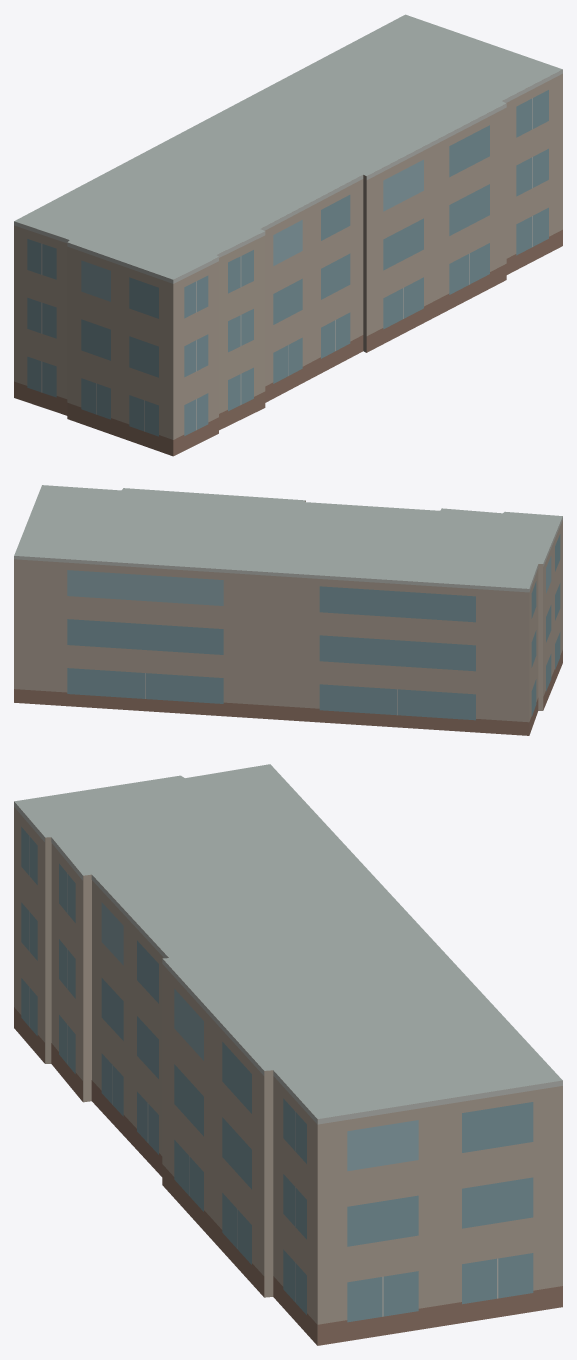
File: survey-upis-32848334.glb
3 views of the same model, one above another, from view 1: azimuth 30°, elevation 25°; view 2: azimuth 150°, elevation 25°; view 3: azimuth 270°, elevation 25° (orthographic). The views are drawn at different scales.
Parts seen in each view (by area): view 1: survey-upis-32848334.tmp; view 2: survey-upis-32848334.tmp; view 3: survey-upis-32848334.tmp.
Part boxes in pixels (x1,y1,x2,y2): survey-upis-32848334.tmp: (14, 14, 562, 456); survey-upis-32848334.tmp: (14, 485, 562, 735); survey-upis-32848334.tmp: (14, 764, 562, 1345).
Bounding box in the file's own units: 34.63 × 10.3 × 22.61.
